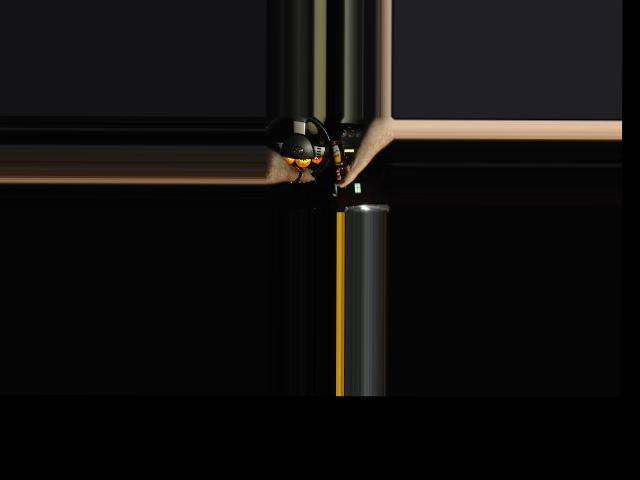beer: (329, 140, 348, 187)
